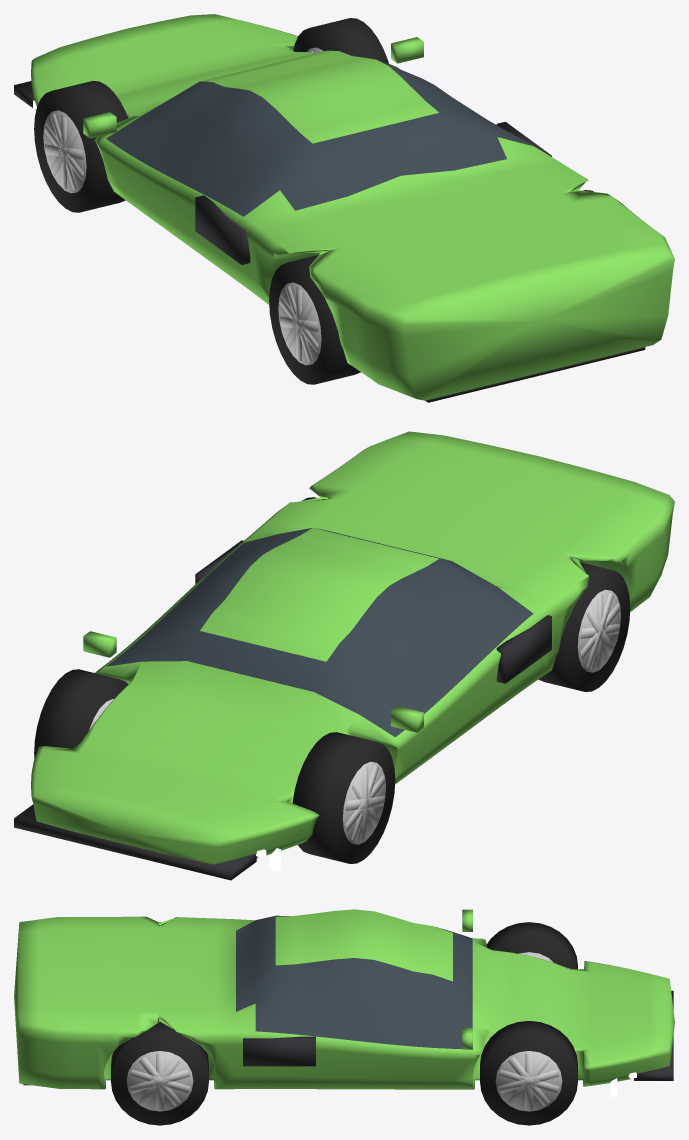
Rendered from strix_v12.glb.
The picture shows the model from 3 angles, top to bottom: view 1: azimuth 30°, elevation 25°; view 2: azimuth 150°, elevation 25°; view 3: azimuth 270°, elevation 25°; orthographic projection. The views are drawn at different scales.
Visible parts, largest first — view 1: Body, Wheel_FL, Wheel_RL, Wheel_FR; view 2: Body, Wheel_FL, Wheel_RL, Wheel_FR; view 3: Body, Wheel_FR, Wheel_RR, Wheel_FL.
Part boxes in pixels (x1=…): Body: x1=14, y1=14, x2=674, y2=402; Wheel_FL: x1=34, y1=81, x2=128, y2=212; Wheel_RL: x1=269, y1=255, x2=360, y2=384; Wheel_FR: x1=293, y1=18, x2=388, y2=63; Body: x1=14, y1=431, x2=674, y2=880; Wheel_FL: x1=292, y1=732, x2=395, y2=863; Wheel_RL: x1=538, y1=562, x2=630, y2=691; Wheel_FR: x1=34, y1=669, x2=128, y2=758; Body: x1=14, y1=909, x2=674, y2=1096; Wheel_FR: x1=480, y1=1021, x2=577, y2=1125; Wheel_RR: x1=111, y1=1022, x2=208, y2=1125; Wheel_FL: x1=486, y1=922, x2=577, y2=969.
Bounding box in the file's own units: 2.28 × 1.12 × 4.98.
